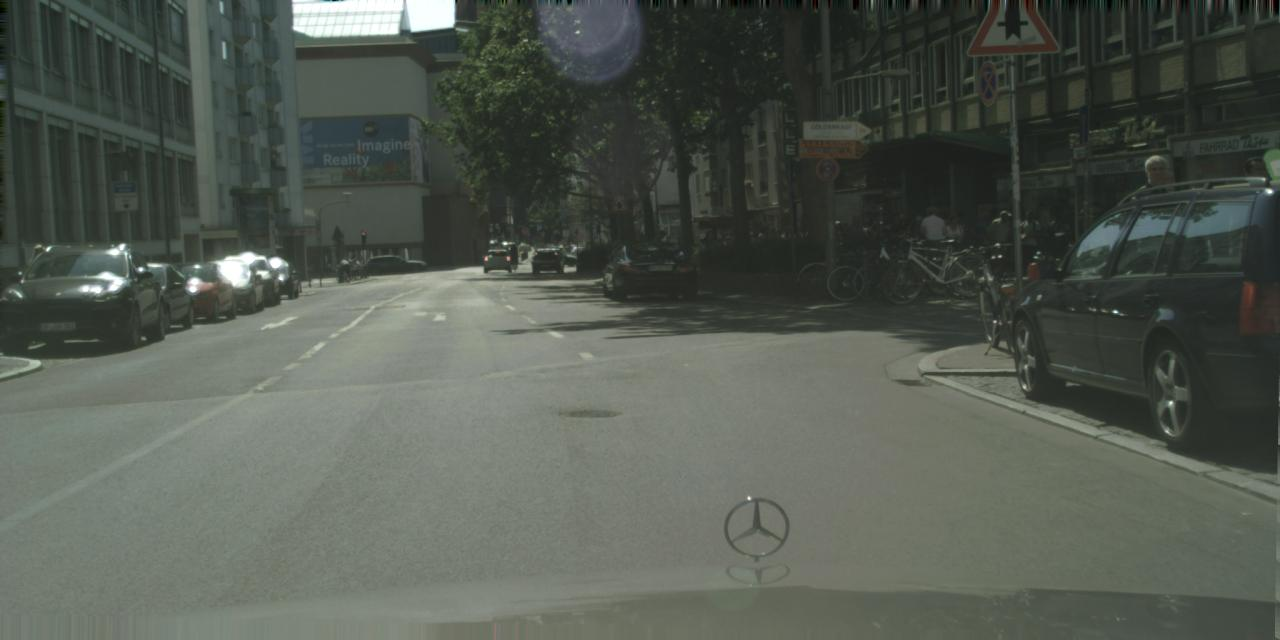ped: (1124, 154, 1186, 307), (1227, 156, 1279, 302), (22, 244, 59, 335), (989, 210, 1015, 276), (1016, 212, 1041, 276), (919, 207, 944, 270), (971, 208, 993, 264), (948, 212, 969, 264), (944, 216, 965, 268), (846, 215, 864, 261), (765, 226, 783, 270), (650, 230, 668, 273), (739, 228, 756, 272), (756, 228, 772, 268), (780, 226, 796, 266), (701, 230, 717, 269), (747, 232, 762, 270), (772, 230, 787, 266), (720, 235, 734, 272), (838, 223, 851, 253), (832, 220, 844, 250), (509, 244, 518, 268)
